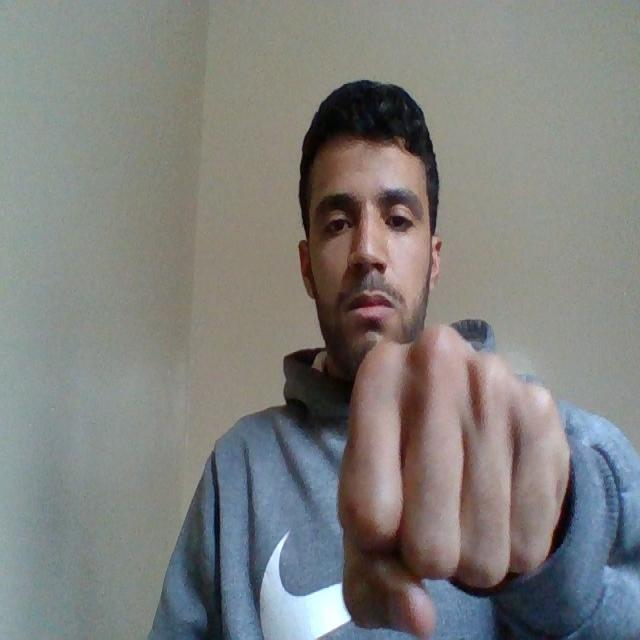No: (332, 320, 575, 639)
